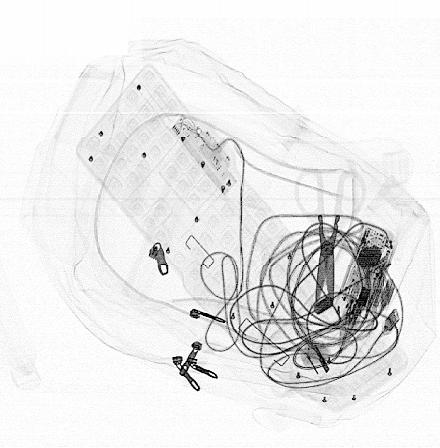Scissors: (292, 166, 369, 308)
